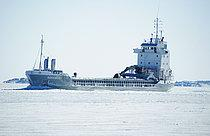Ship: (24, 14, 180, 96)
